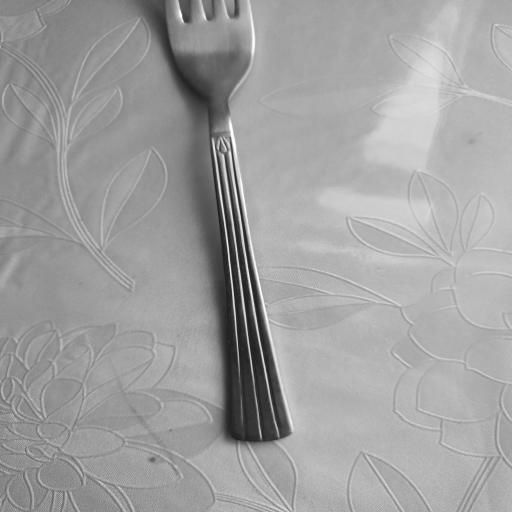fork: (164, 0, 294, 446)
